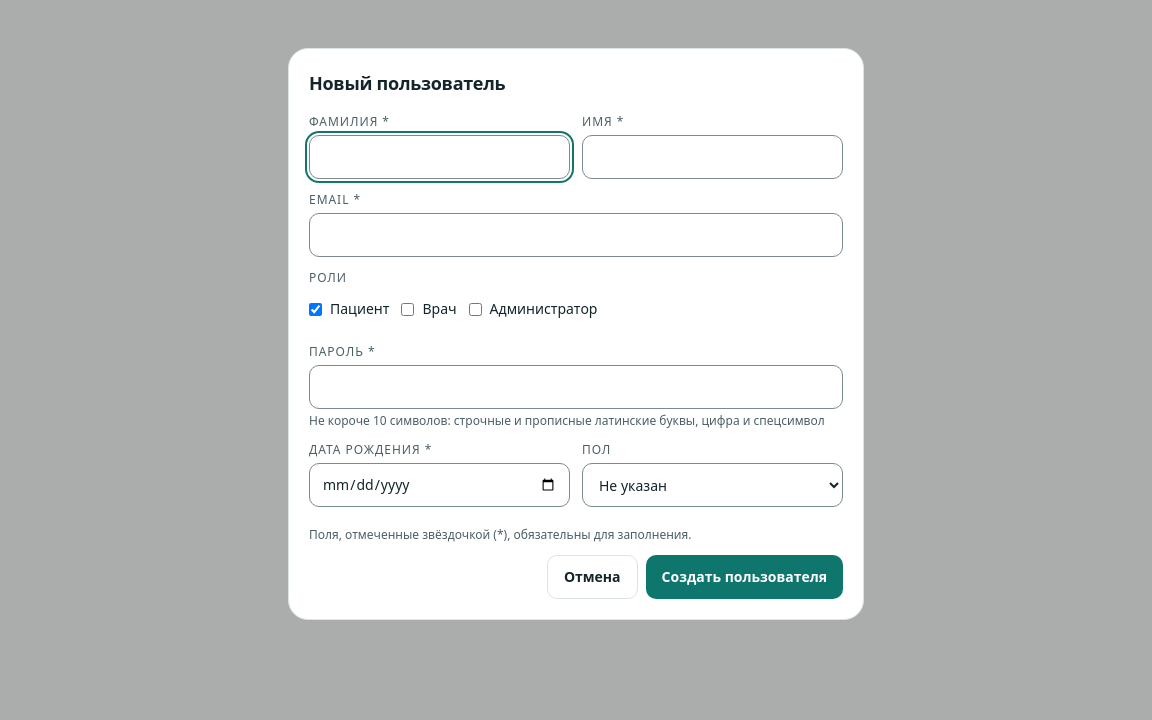
Test: UserFormDialog (create) › should put EMAIL_TAKEN at the email field, focus it and not repeat it in a banner when the server answers 409
This screenshot has width=1152, height=720.
In the field labelled "Фамилия *": (440, 157) [309, 135, 570, 179], type "Тестов"
In the field labelled "Имя *": (712, 157) [582, 135, 843, 179], type "Админ"
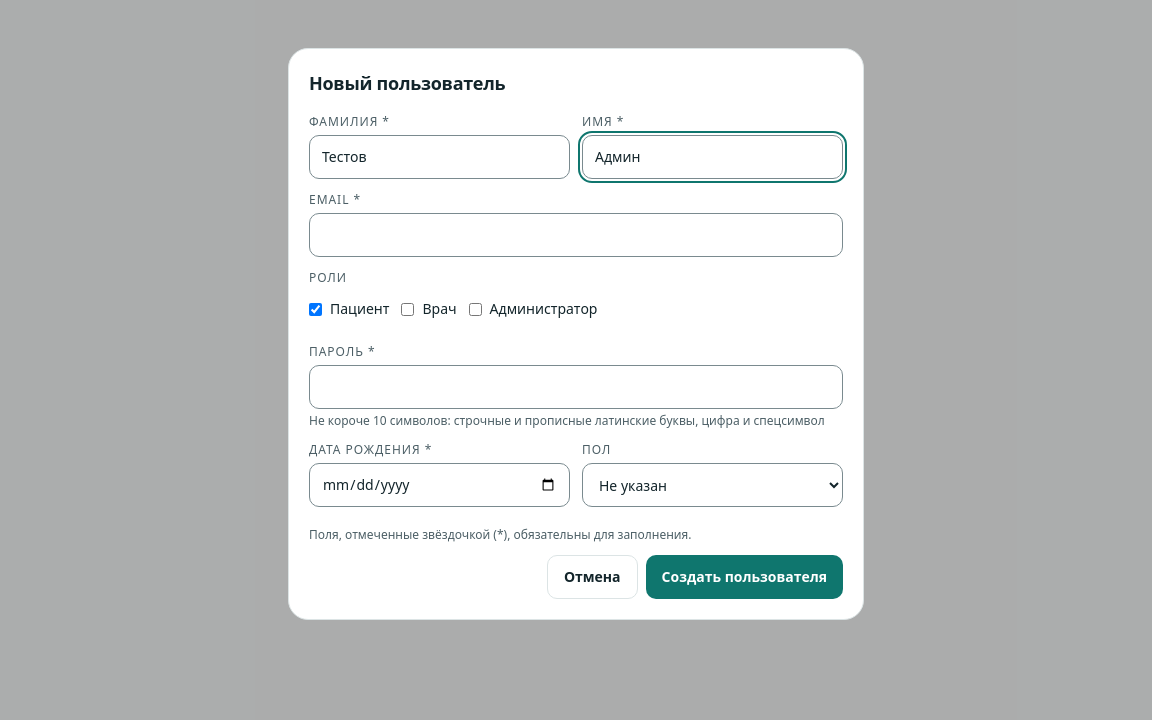
In the field labelled "Email *": (576, 235) [309, 213, 843, 257], type "new.admin@medcenter.test"
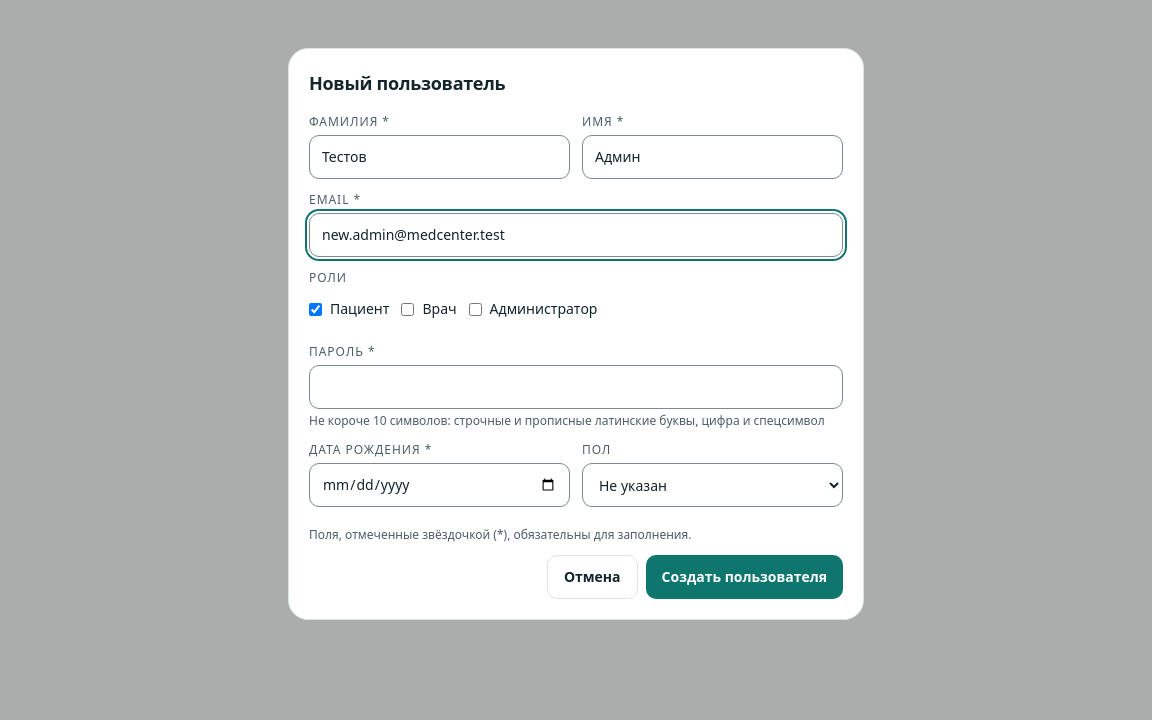
Click the checkbox labelled "Пациент": (316, 309) [309, 302, 322, 316]
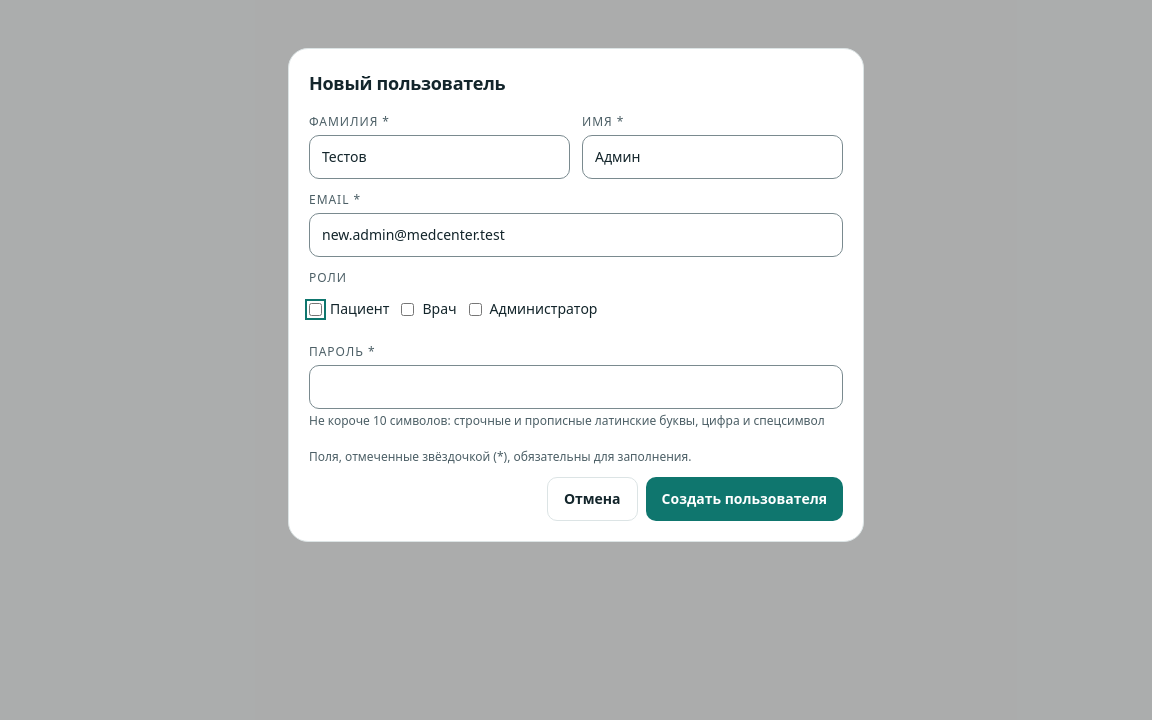
Click the checkbox labelled "Администратор": (475, 309) [469, 302, 482, 316]
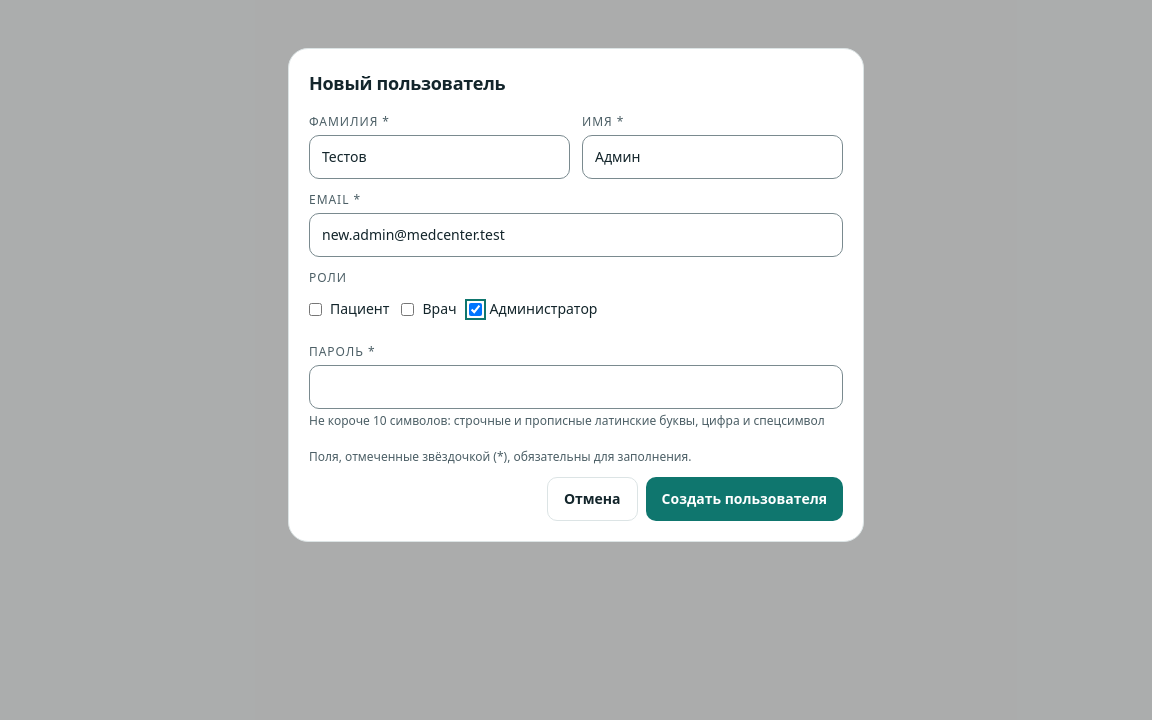
In the password field labelled "Пароль *": (576, 387) [309, 365, 843, 409], type "Str0ng!Pass1"
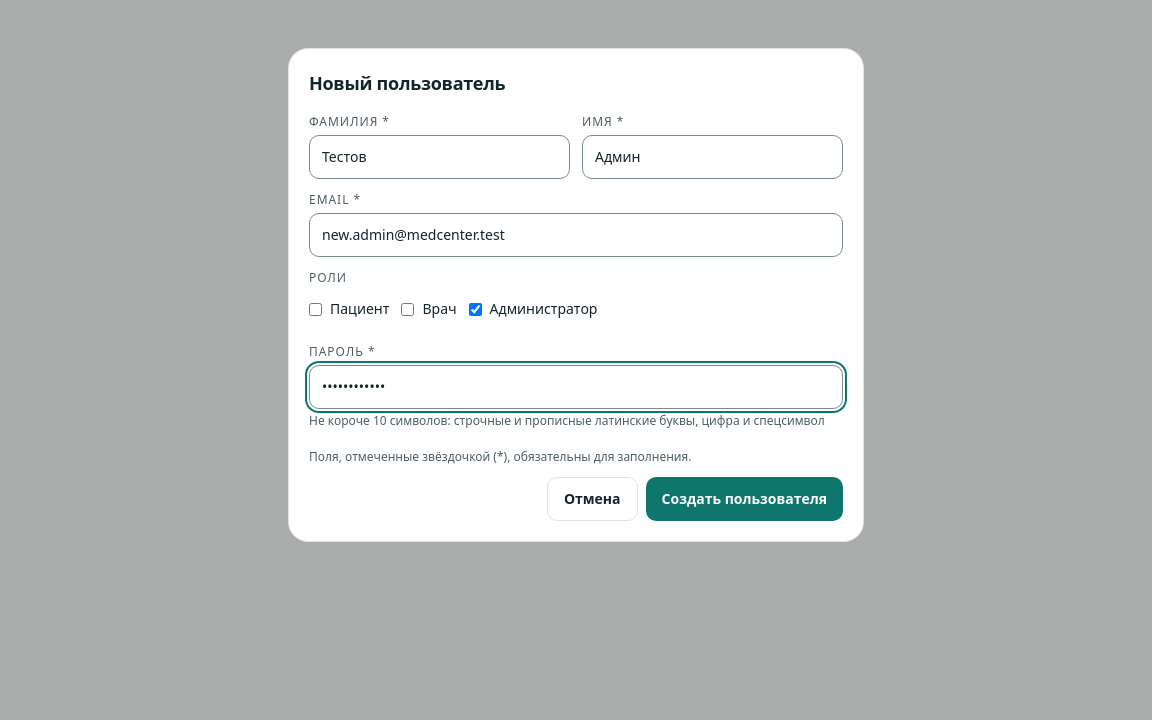
Click the button "Создать пользователя": (744, 499) [646, 477, 843, 521]
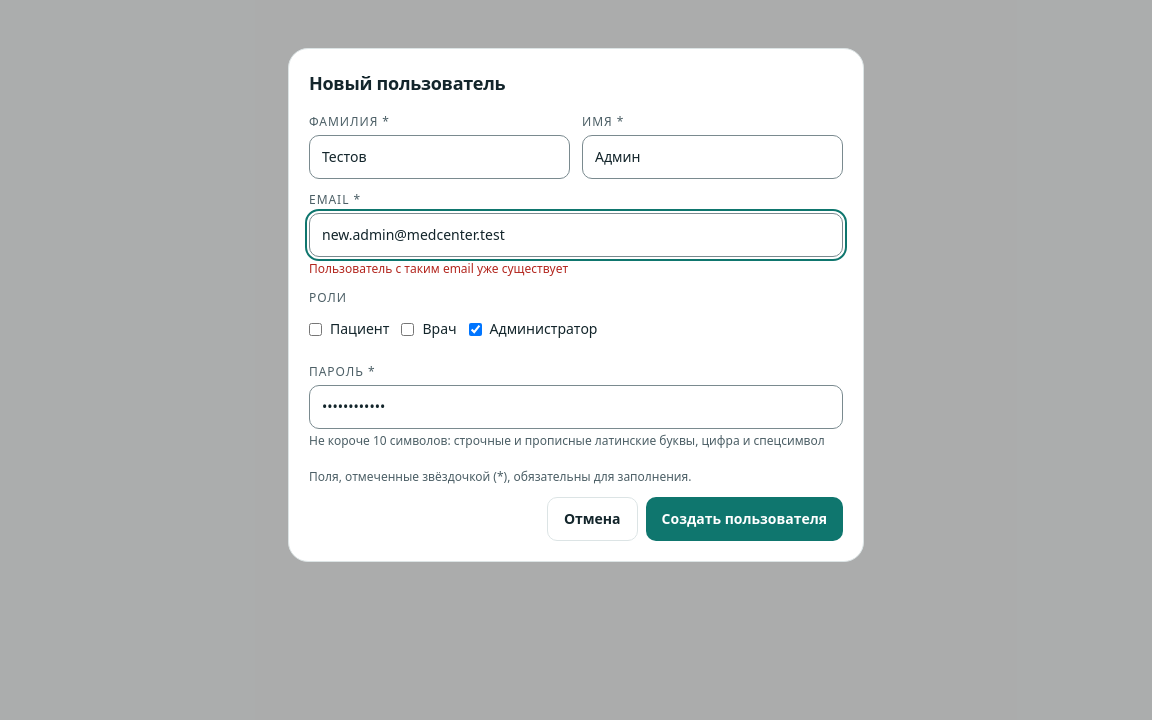
Expected: the text "Пользователь с таким email уже существует" is shown, [309, 260, 568, 277]
